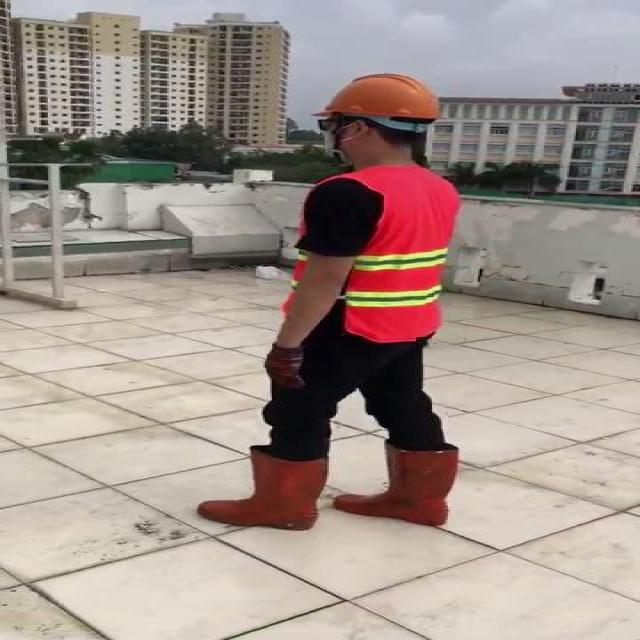boots: (197, 447, 329, 530), (332, 443, 457, 526)
hand_glove: (262, 345, 310, 388)
head_helmet: (308, 72, 446, 122)
person: (193, 68, 477, 534)
vest: (286, 164, 460, 340)
